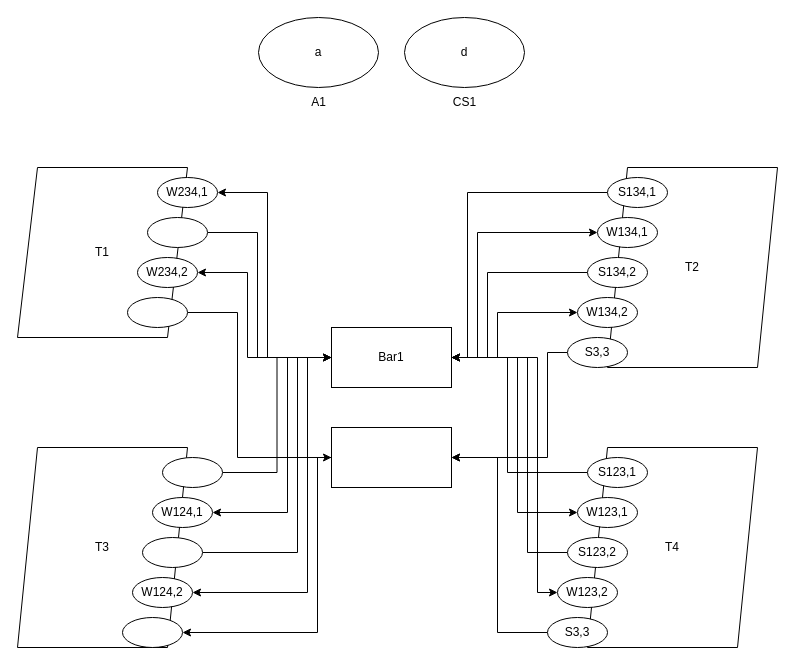
Image size: 795x665. Some labels were removed from this diagram. The centre of each missing label's shape, as x and y in pixels:
S124,1: the point at 192,472
S124,2: the point at 172,552
S234,1: the point at 177,232
S3,2: the point at 157,312
Sem1: the point at 391,457
W124,3: the point at 152,632
